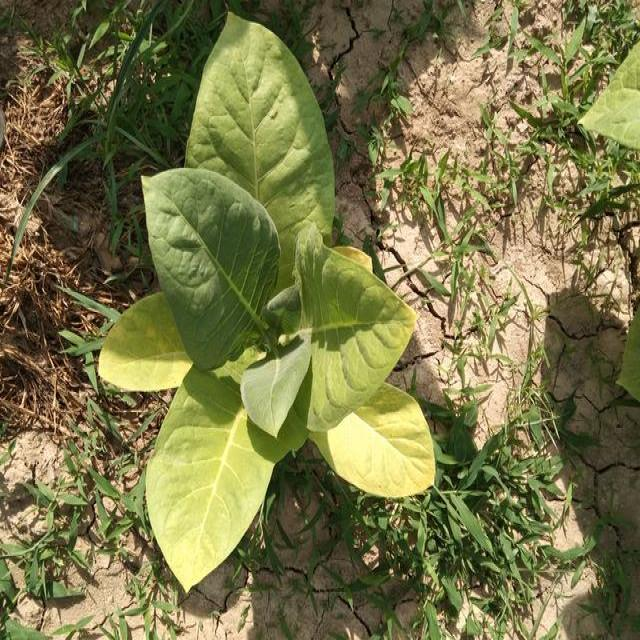crop: (95, 16, 442, 588)
